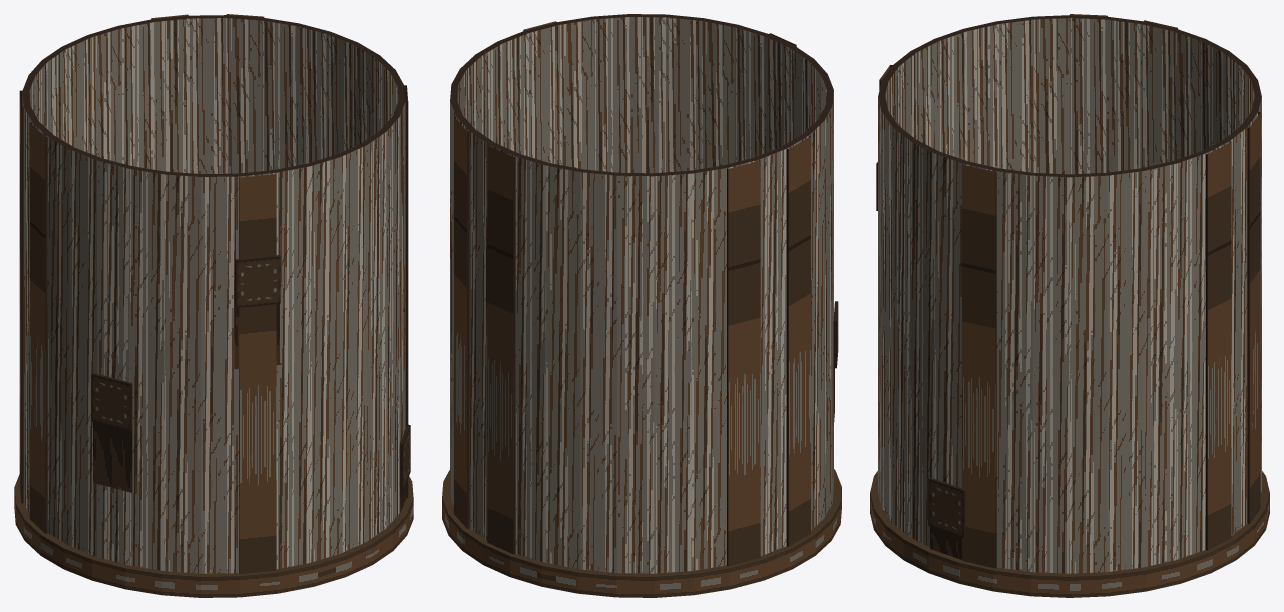
File: TOR-01_Fuste_de_torre_a.gltf
3 views of the same model, side by side, from view 1: azimuth 30°, elevation 25°; view 2: azimuth 150°, elevation 25°; view 3: azimuth 270°, elevation 25° (orthographic).
Visible parts, largest first — view 1: TOR-01_Fuste_de_torre_a-col; view 2: TOR-01_Fuste_de_torre_a-col; view 3: TOR-01_Fuste_de_torre_a-col.
Part boxes in pixels (left/top/right/bottom): TOR-01_Fuste_de_torre_a-col: left=14, top=14, right=413, bottom=597; TOR-01_Fuste_de_torre_a-col: left=442, top=14, right=841, bottom=597; TOR-01_Fuste_de_torre_a-col: left=870, top=14, right=1269, bottom=597.
Size of the model in its own units: 5.21 by 6 by 5.21.
Materials: 1 (1 with a texture image).
